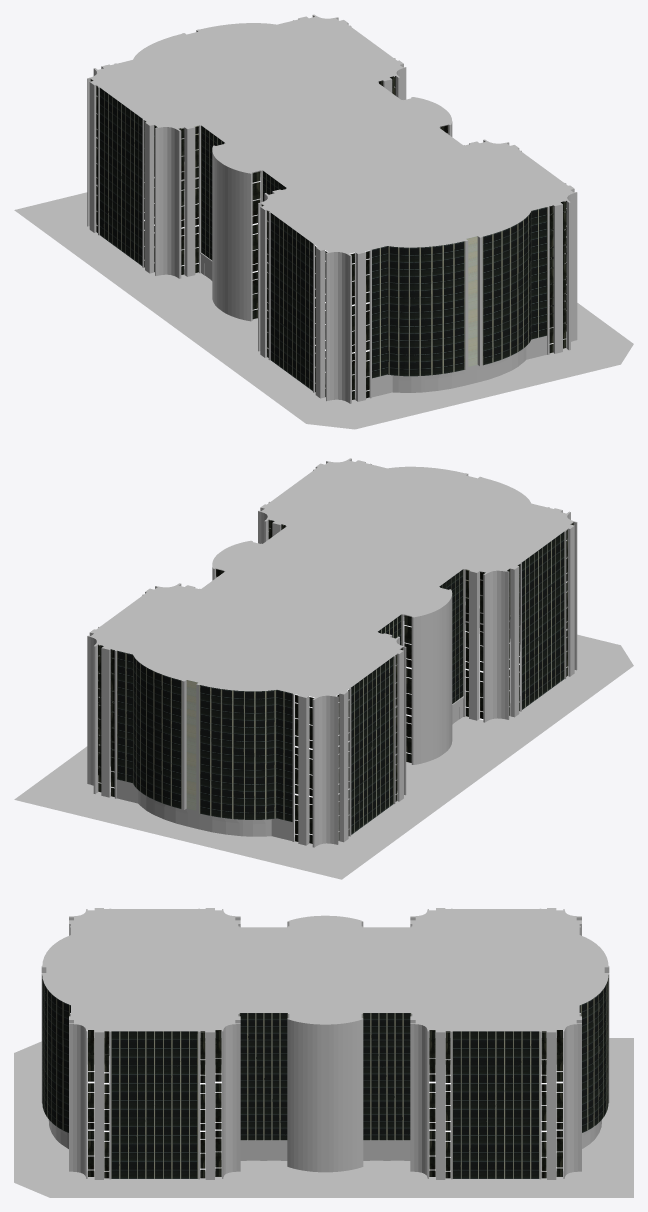
3 renders of one model, top to bottom at view 1: azimuth 30°, elevation 25°; view 2: azimuth 150°, elevation 25°; view 3: azimuth 270°, elevation 25°, orthographic.
Visible parts, largest first — view 1: DC-16; view 2: DC-16; view 3: DC-16.
Part boxes in pixels (<box>): DC-16: <box>14,14,633,429</box>; DC-16: <box>14,458,633,879</box>; DC-16: <box>14,908,633,1197</box>.
Size of what is drawn, in the model's own units: 72 by 31.01 by 118.
